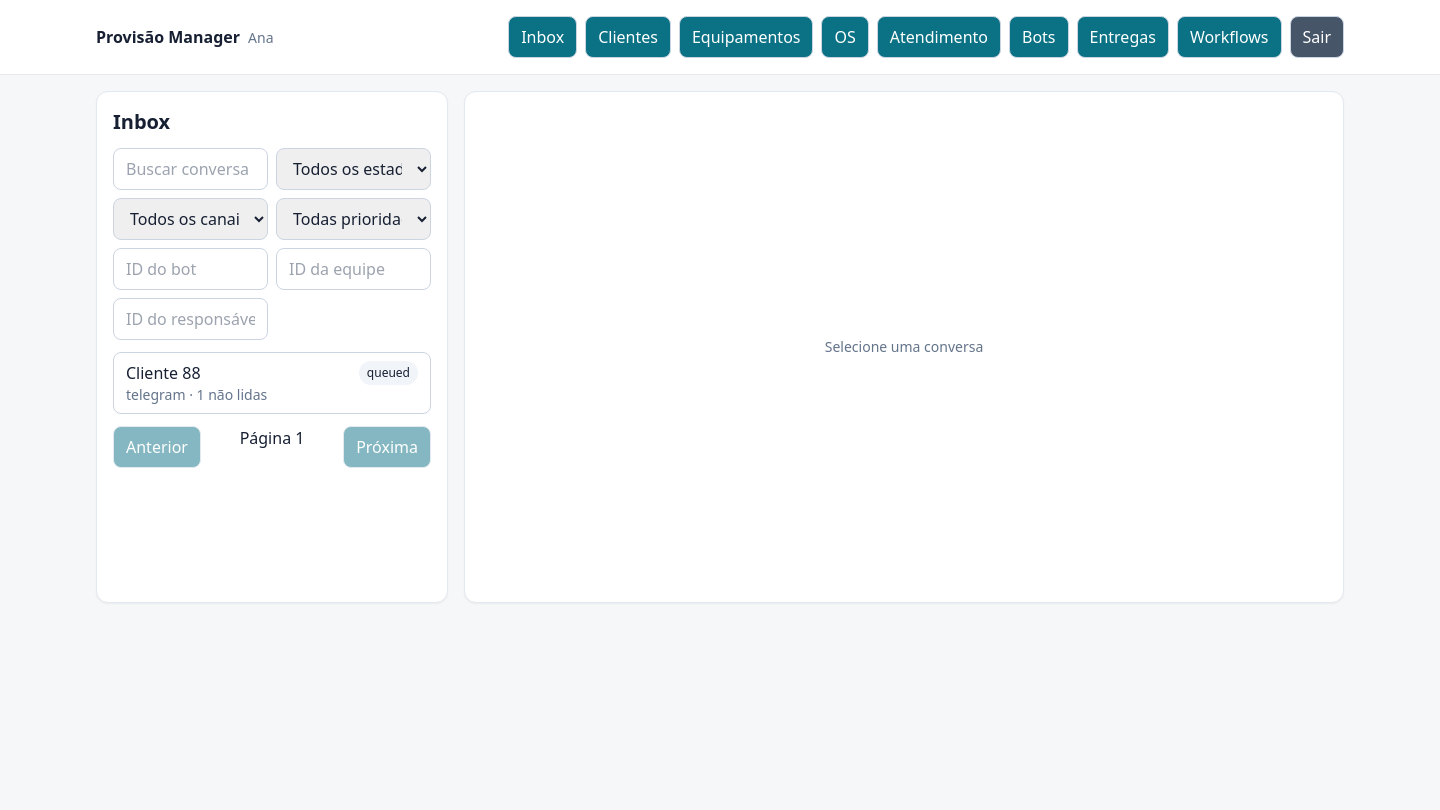
Test: loads inbox, opens conversation and sends a human reply
The image size is (1440, 810).
Later steps or results of the test are not shown.
Click the text "Cliente 88" at (163,373), box [126,362,200,384]
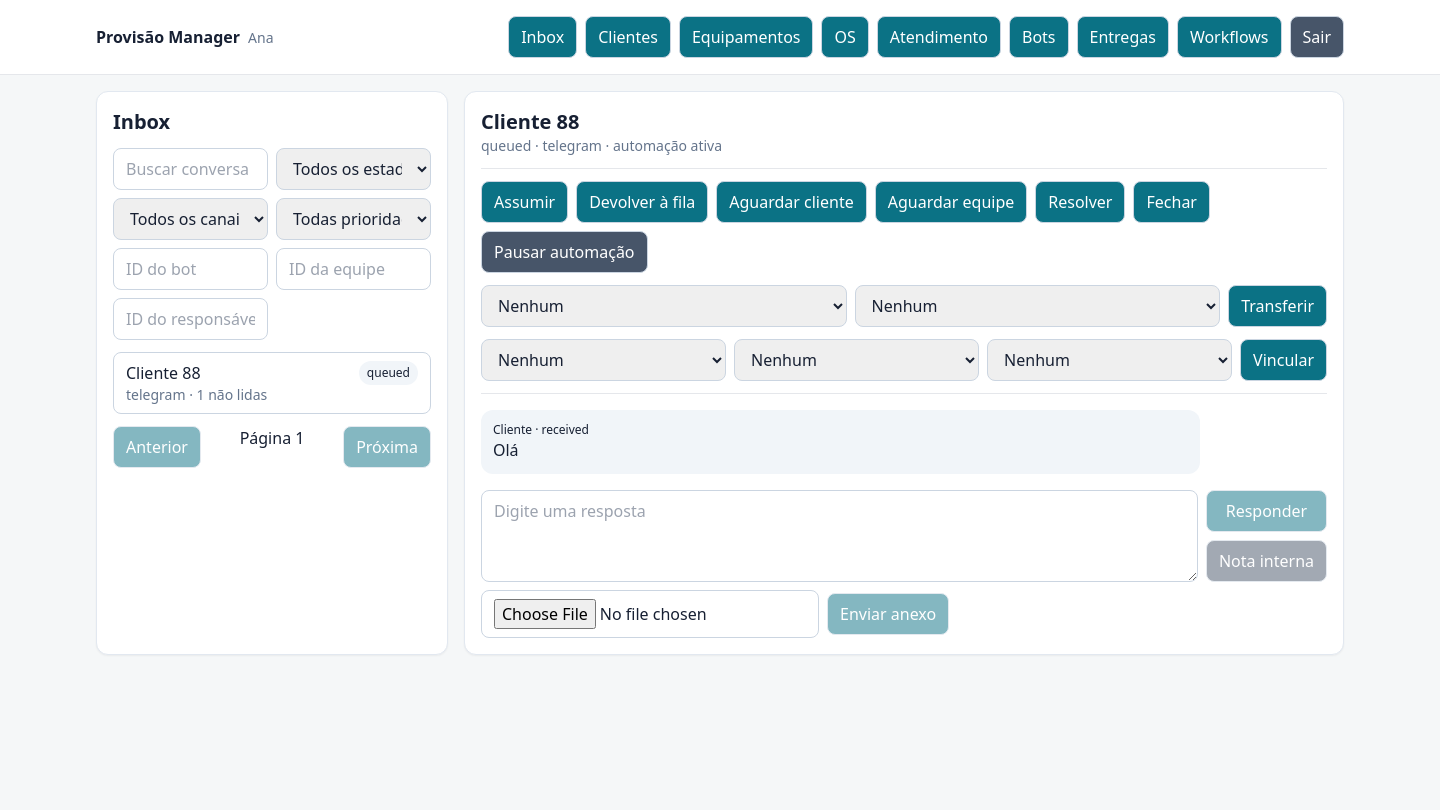
Check: the text "Olá" is shown, box [493,439,519,461]
